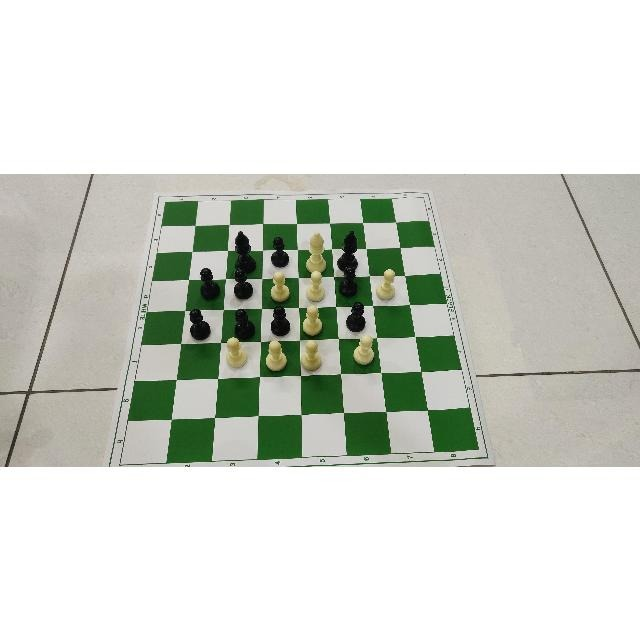black-bishop: (232, 228, 260, 274), (339, 229, 363, 271)
black-pawn: (197, 265, 221, 301), (232, 265, 256, 301), (269, 302, 295, 335), (187, 307, 213, 337), (345, 299, 370, 330), (233, 307, 257, 339), (341, 263, 361, 297), (270, 234, 290, 267)
white-bishop: (306, 229, 332, 273)
white-pawn: (376, 266, 400, 303), (223, 335, 248, 369), (265, 339, 291, 371), (302, 339, 329, 369), (351, 333, 375, 365), (304, 303, 328, 335), (304, 269, 328, 300), (268, 270, 292, 299)
